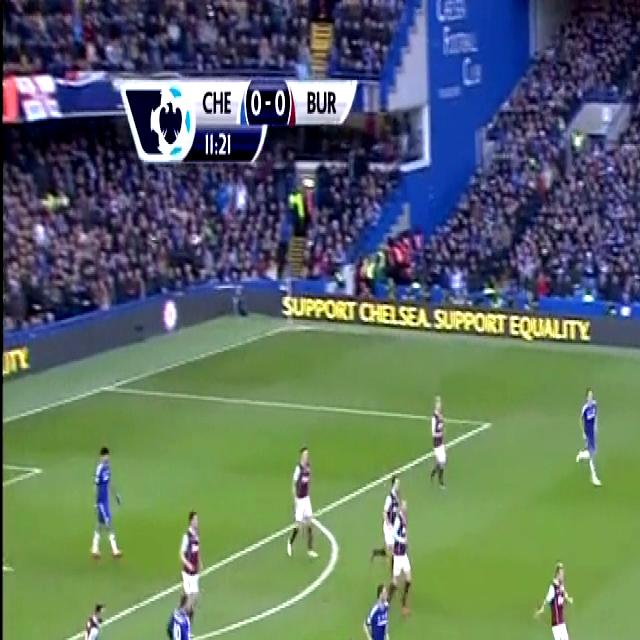referee: (321, 618, 373, 640)
soccer-player: (279, 427, 323, 563), (86, 429, 125, 569), (417, 367, 458, 494), (569, 365, 605, 502), (526, 553, 582, 640), (386, 494, 418, 632), (175, 500, 208, 632), (374, 472, 406, 567), (56, 592, 111, 640), (361, 567, 394, 640), (161, 590, 195, 640)
